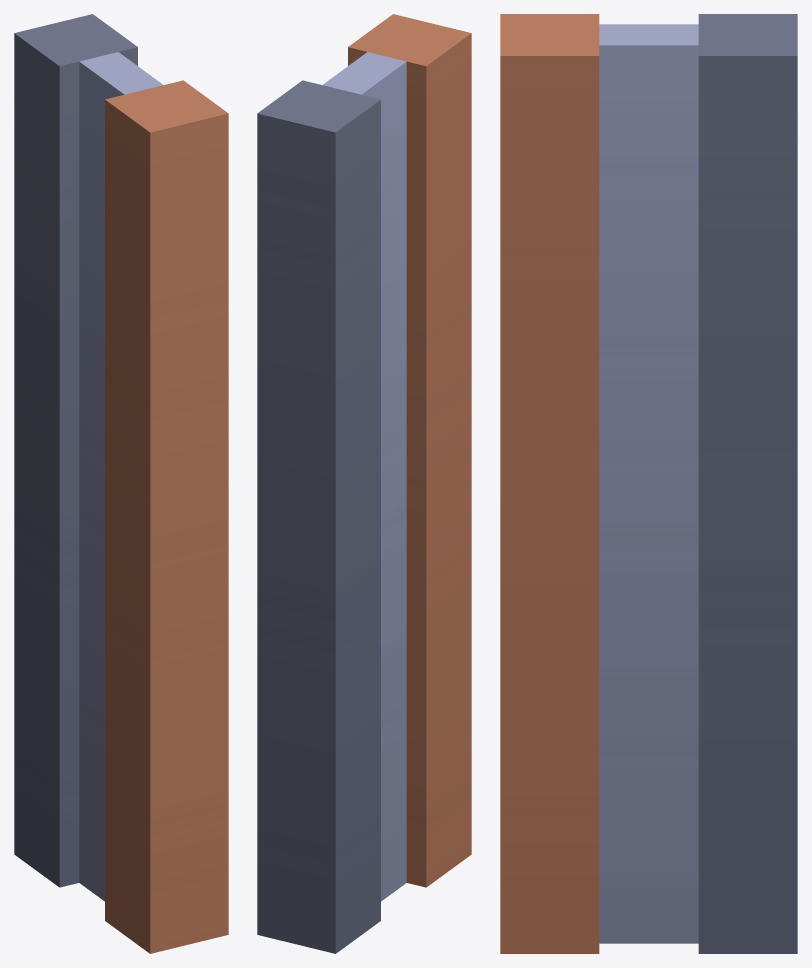
Rendered from wall-arch.fbx.
The picture shows the model from 3 angles, left to right: view 1: azimuth 30°, elevation 25°; view 2: azimuth 150°, elevation 25°; view 3: azimuth 270°, elevation 25°; orthographic projection. The views are drawn at different scales.
Visible parts, largest first — view 1: wall-arch; view 2: wall-arch; view 3: wall-arch.
Boxes of the visible parts, <box> form: wall-arch: <box>14,14,228,953</box>; wall-arch: <box>257,14,471,953</box>; wall-arch: <box>500,14,797,953</box>.
Size of the model in its own units: 10 by 100 by 30.
1 material, 1 textured.
